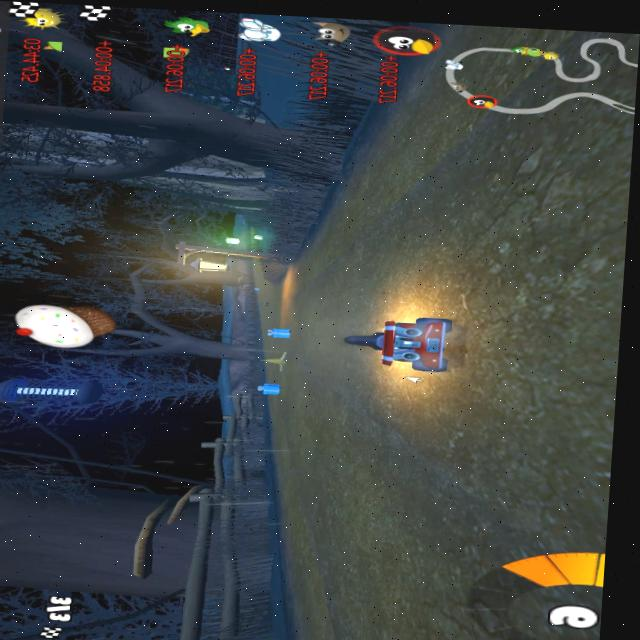bonus: (262, 326, 294, 339), (256, 383, 281, 398)
obstacle: (259, 351, 291, 368)
player_kart: (347, 307, 457, 370)
track: (343, 363, 617, 640), (424, 23, 640, 318), (278, 265, 370, 607), (348, 120, 432, 306), (450, 310, 620, 373), (256, 280, 302, 324), (316, 229, 355, 269), (270, 264, 301, 284)
